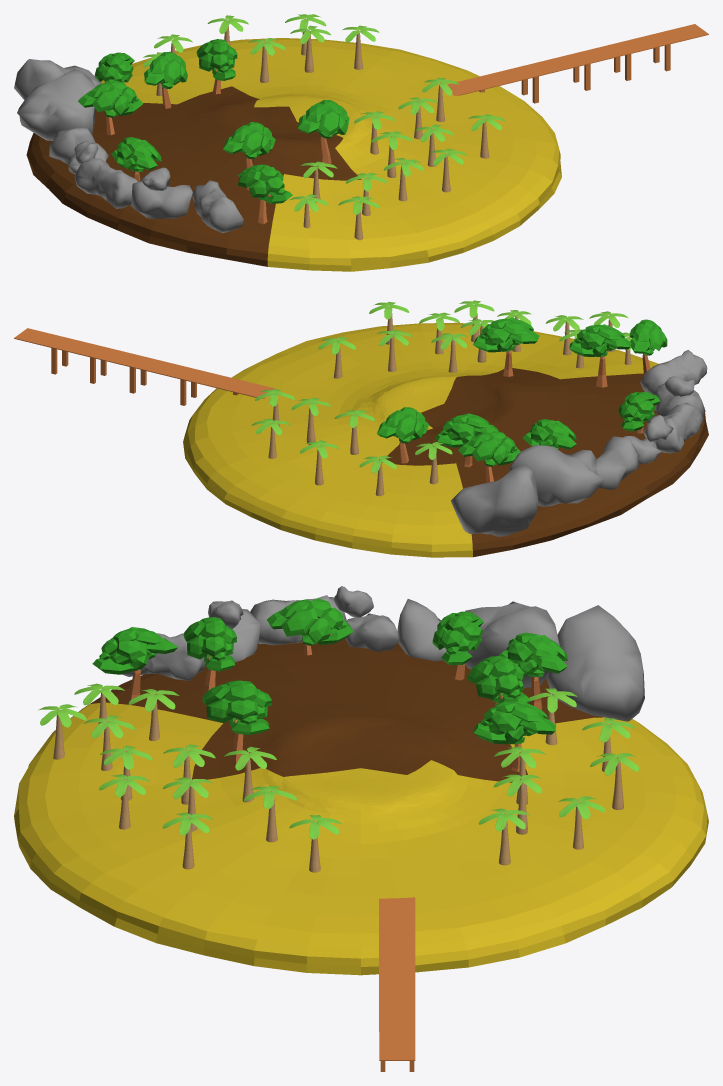
Rendered from IlhaFeiticeiro.fbx.
3 renders of one model, top to bottom at view 1: azimuth 30°, elevation 25°; view 2: azimuth 150°, elevation 25°; view 3: azimuth 270°, elevation 25°, orthographic. The views are drawn at different scales.
Visible parts, largest first — view 1: Continente, Ponte, Pedra2, Icosphere, Pedra1, Icosphere.001, Sphere.007, Sphere.001, Sphere.000, Pedra1.002, Sphere.006, Sphere.003 (+22 smaller); view 2: Continente, Ponte, Pedra1.002, Pedra2, Sphere.001, Sphere.006, Pedra1.001, Sphere.002, Icosphere.001, Sphere.003, Icosphere, Sphere.008 (+19 smaller); view 3: Continente, Pedra1.002, Ponte, Pedra2, Sphere.001, Sphere.009, Sphere.000, Sphere.003, Sphere.006, Sphere.002, Sphere.007, Sphere.008 (+22 smaller).
Part boxes in pixels (x1,y1,x2,y2): Continente: (26,38,561,271); Ponte: (447,24,708,103); Pedra2: (17,69,95,140); Icosphere: (74,157,137,208); Pedra1: (131,181,192,218); Icosphere.001: (192,180,243,233); Sphere.007: (78,80,143,135); Sphere.001: (298,99,349,163); Sphere.000: (238,164,292,224); Pedra1.002: (14,59,101,100); Sphere.006: (223,122,275,190); Sphere.003: (196,39,237,94); Continente: (183,322,708,557); Ponte: (14,328,275,405); Pedra1.002: (451,464,538,536); Pedra2: (509,445,603,506); Sphere.001: (473,317,539,376); Sphere.006: (569,324,631,387); Pedra1.001: (596,436,639,489); Sphere.002: (458,430,520,482); Icosphere.001: (640,350,707,394); Sphere.003: (377,407,428,463); Icosphere: (655,402,703,453); Sphere.008: (435,413,498,467); Continente: (14,638,708,975); Pedra1.002: (546,605,644,721); Ponte: (379,897,415,1071); Pedra2: (465,601,559,687); Sphere.001: (202,680,271,762); Sphere.009: (266,598,353,655); Sphere.000: (92,627,177,700); Sphere.003: (474,700,556,771); Sphere.006: (183,617,236,701); Sphere.002: (498,632,568,710); Sphere.007: (432,611,483,680); Sphere.008: (467,656,530,707).
Bounding box in the file's own units: 18023 × 2909 × 12759.
